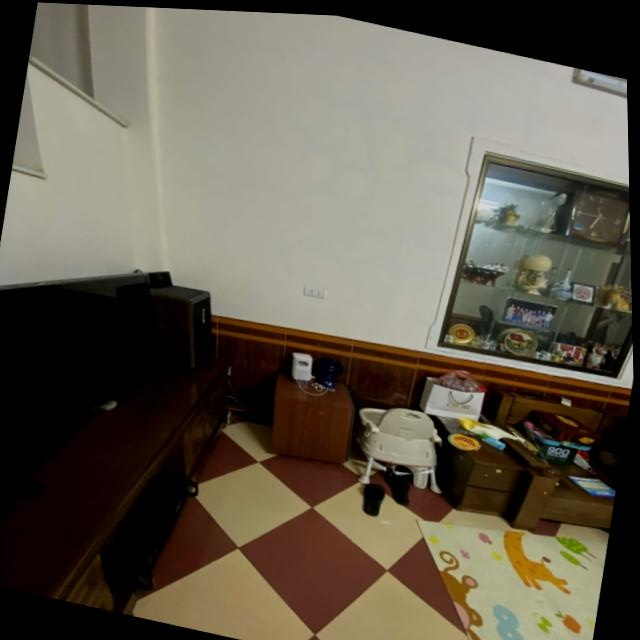outlet: (302, 285, 327, 302)
